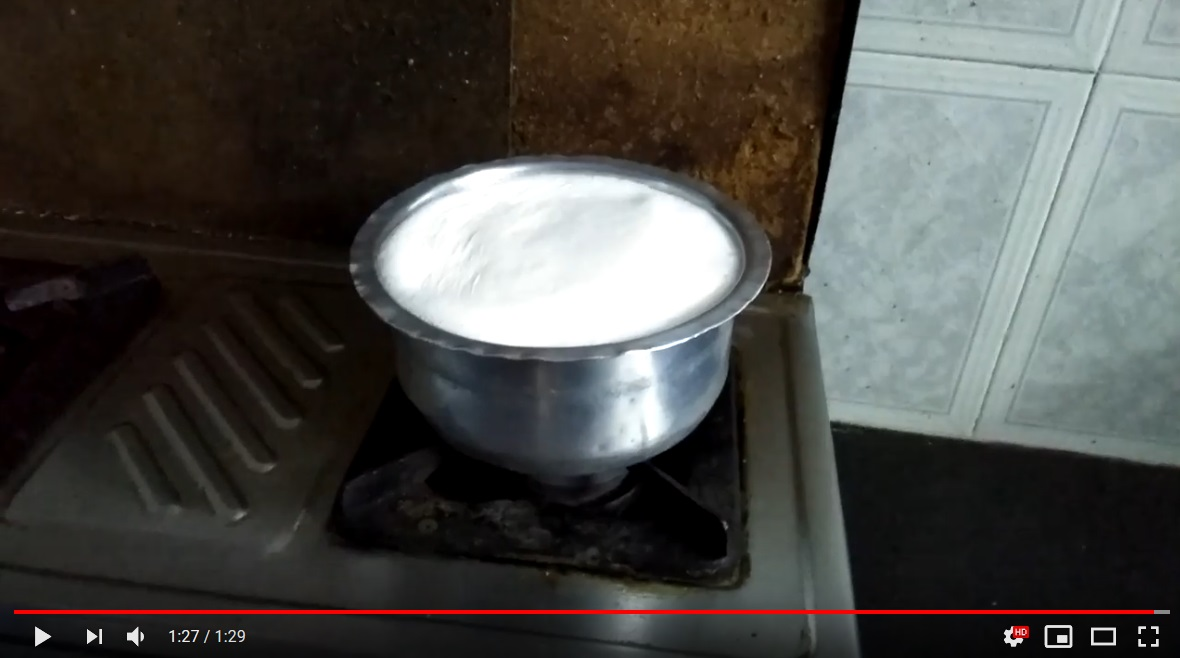Steaming: (325, 142, 771, 486)
